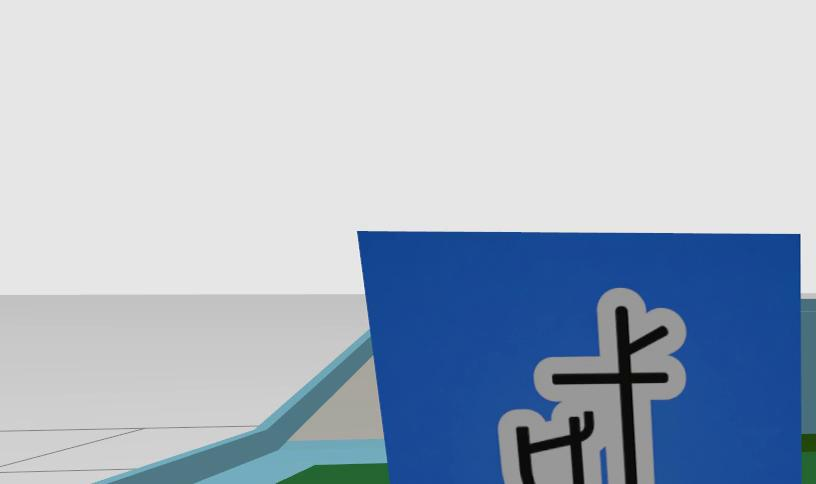KFS_REAL: (352, 228, 802, 484), (501, 290, 685, 484)
